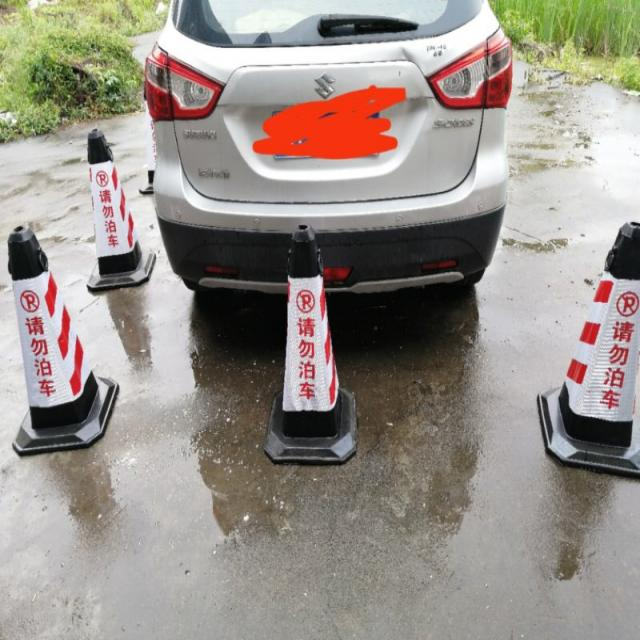car: (143, 0, 516, 294)
reflective_cone: (538, 215, 640, 472), (7, 226, 115, 453), (265, 222, 355, 463), (86, 123, 155, 290)
